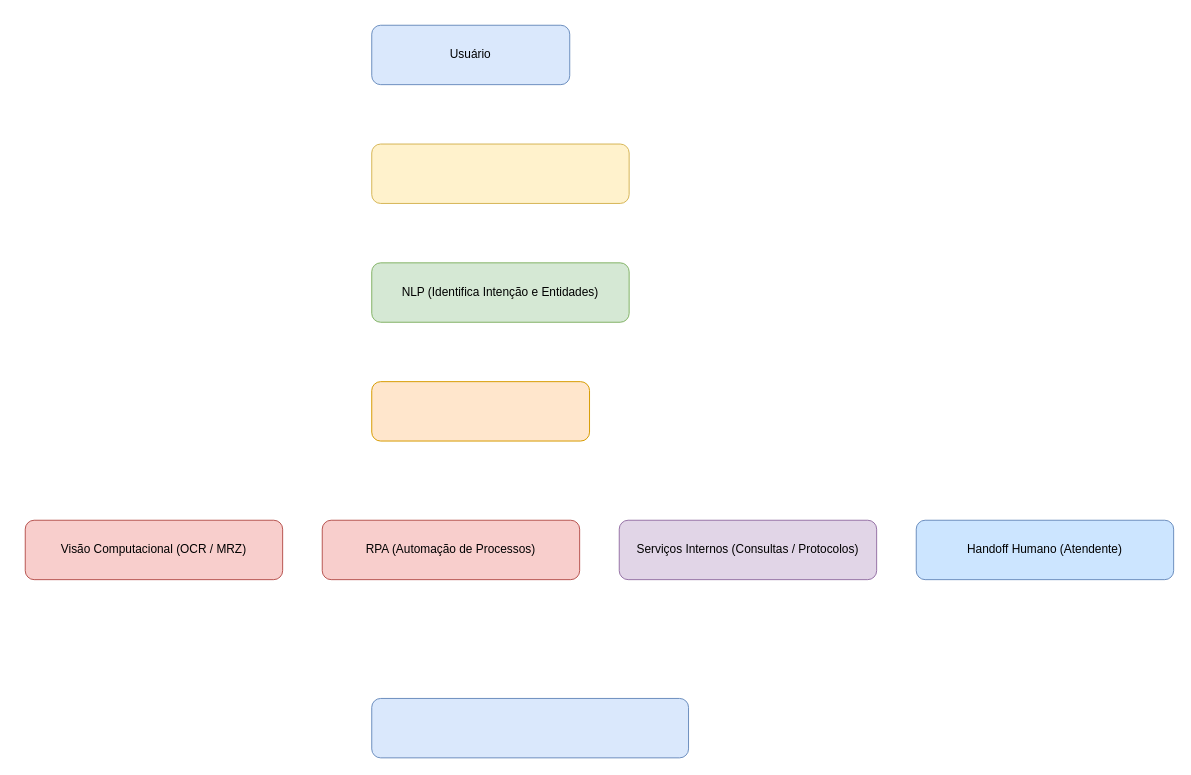
This 1191x775 diagram has some shape labels left out. The box of each missing label's shape, as (x1, y1, x2, y2) in pixels:
Chatbot (WhatsApp / Telegram / Web): (371, 143, 629, 203)
Regras & Roteamento: (371, 381, 590, 441)
Resposta ao Usuário (Mensagem / Status / Protocolo): (371, 697, 689, 758)
